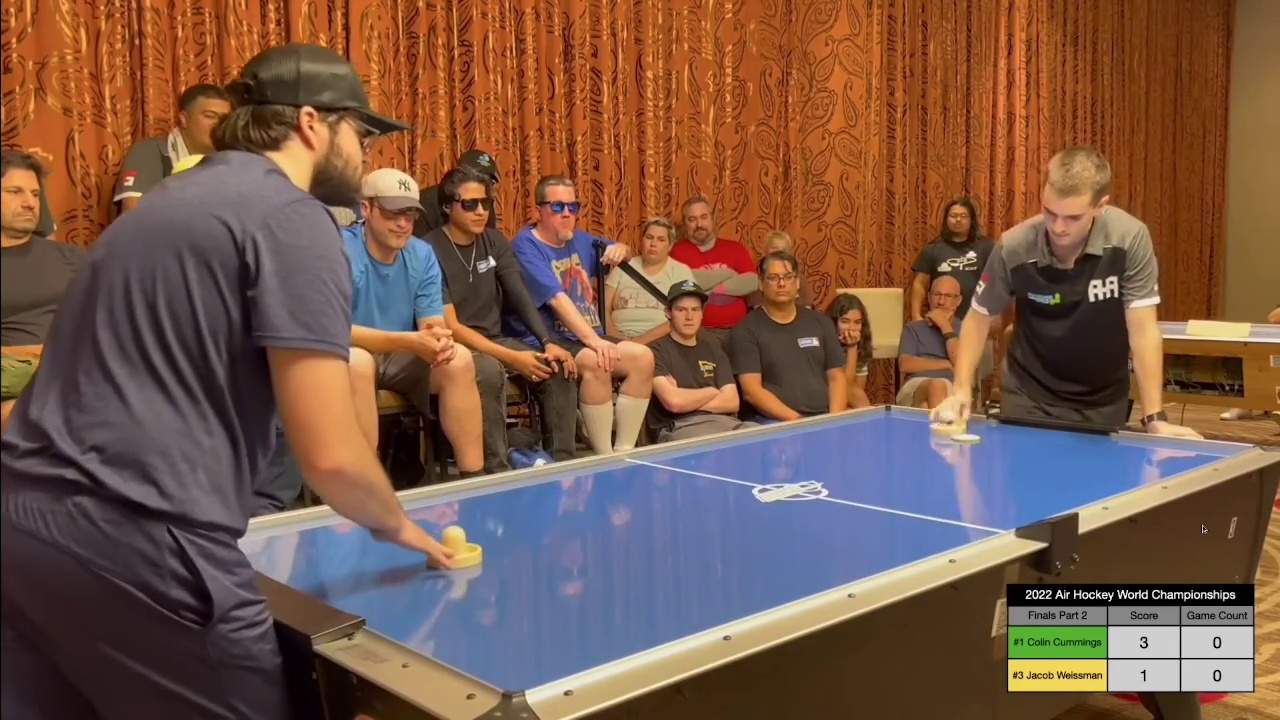player: (430, 524, 483, 571), (930, 406, 969, 435)
puck: (950, 433, 984, 444)
table: (211, 401, 1257, 692)
